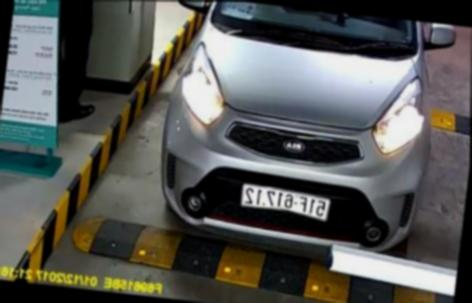License_Plate: (221, 185, 348, 227)
